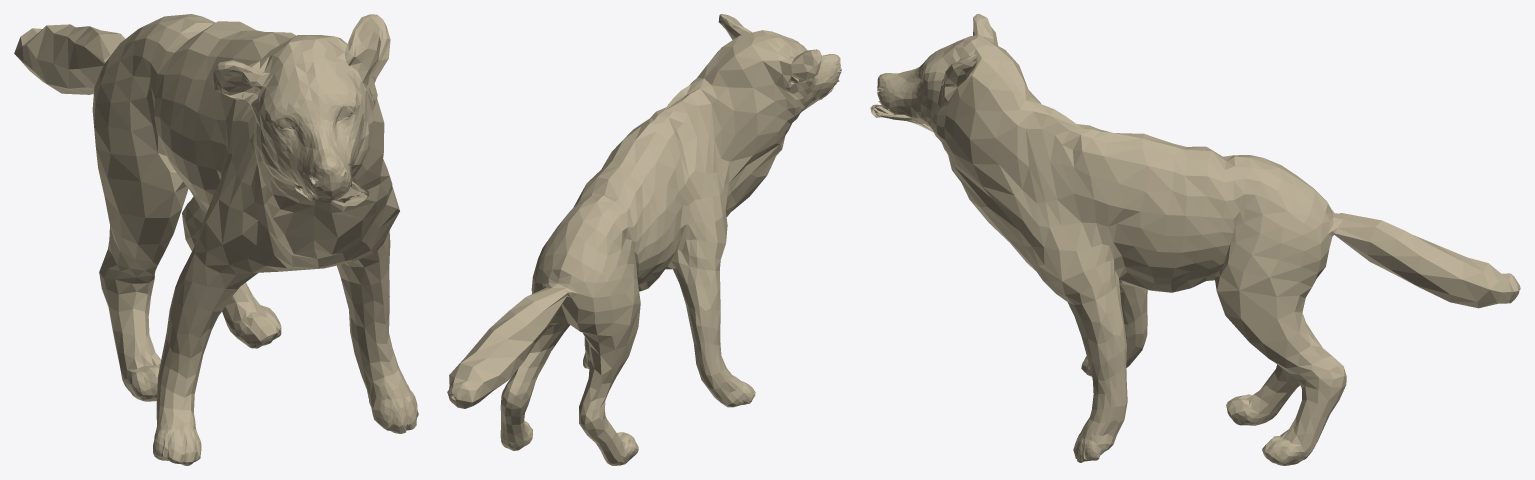
The picture shows the model from 3 angles, left to right: view 1: azimuth 30°, elevation 25°; view 2: azimuth 150°, elevation 25°; view 3: azimuth 270°, elevation 25°; orthographic projection. The views are drawn at different scales.
Visible parts, largest first — view 1: world; view 2: world; view 3: world.
Part boxes in pixels (x1,y1,x2,y2): world: (14, 14, 418, 465); world: (447, 14, 841, 465); world: (870, 14, 1520, 465).
Bounding box in the file's own units: 0.4726 × 0.8435 × 1.3.
